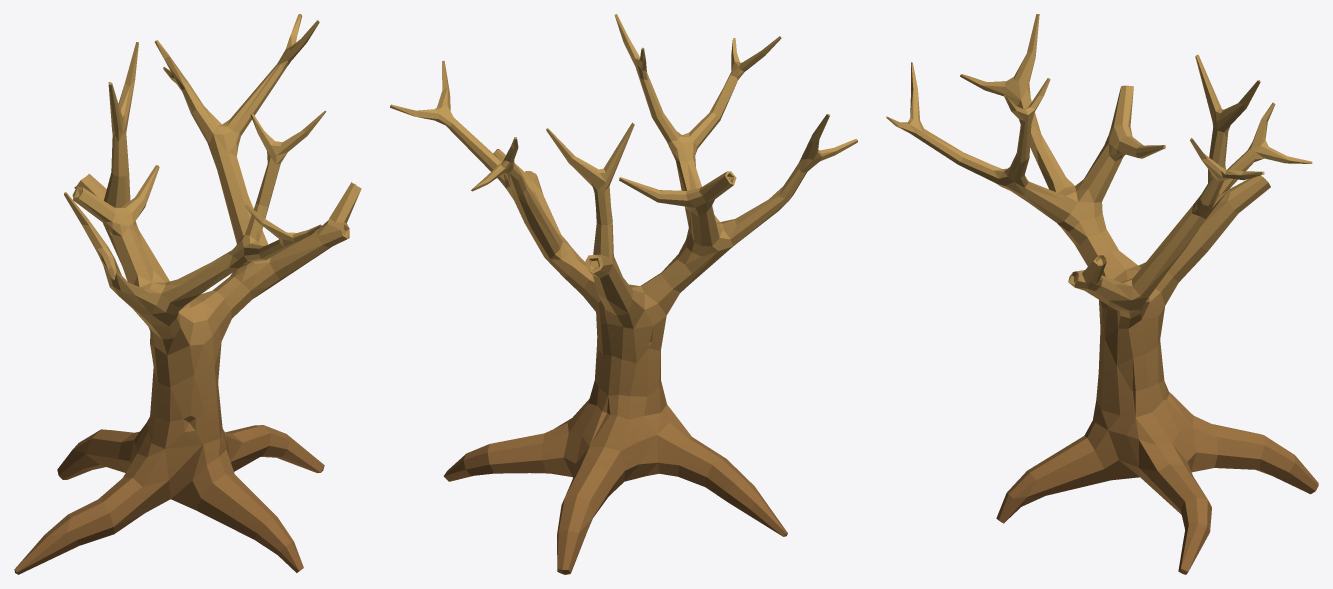
The model's file is Tree_Dead_02.fbx.
The picture shows the model from 3 angles, left to right: view 1: azimuth 30°, elevation 25°; view 2: azimuth 150°, elevation 25°; view 3: azimuth 270°, elevation 25°; orthographic projection. The views are drawn at different scales.
Parts seen in each view (by area): view 1: Tree_Dead_02; view 2: Tree_Dead_02; view 3: Tree_Dead_02.
Boxes of the visible parts, <box> form: Tree_Dead_02: <box>14,14,361,574</box>; Tree_Dead_02: <box>390,14,857,574</box>; Tree_Dead_02: <box>886,14,1318,574</box>.
Bounding box in the file's own units: 453 × 559 × 490.
